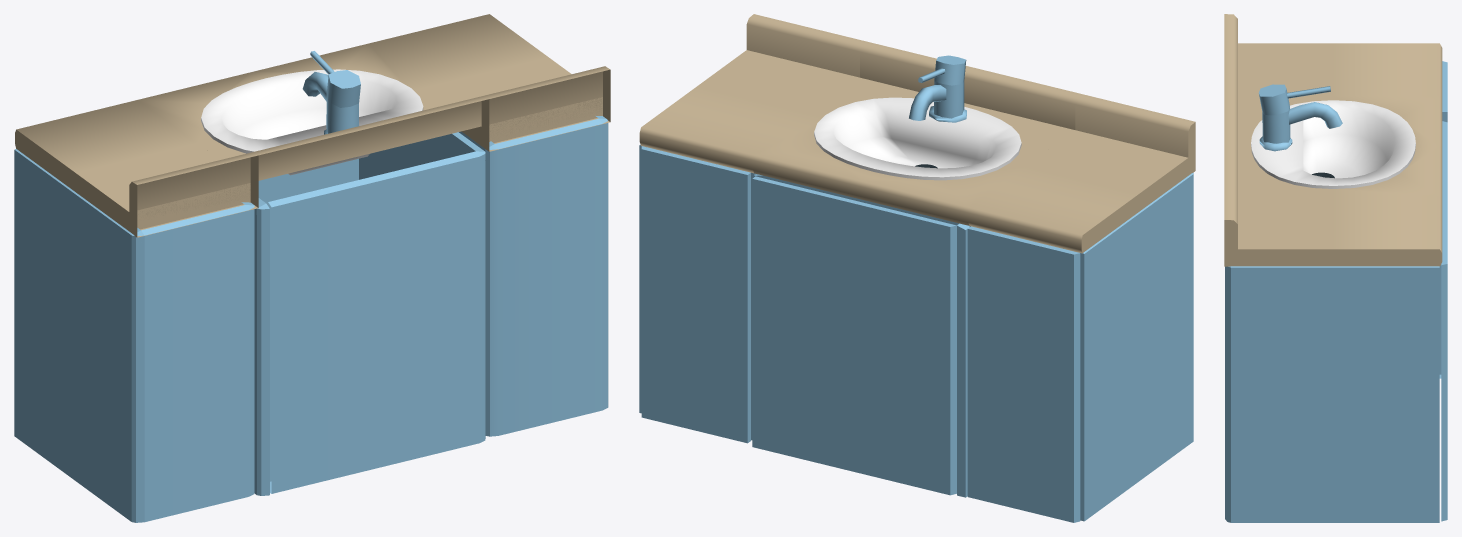
Rendered from Prop_wc_sink1.FBX.
The picture shows the model from 3 angles, left to right: view 1: azimuth 30°, elevation 25°; view 2: azimuth 150°, elevation 25°; view 3: azimuth 270°, elevation 25°; orthographic projection. The views are drawn at different scales.
Visible parts, largest first — view 1: WCSink_01, WCSink_005, WCSink_009, WCSink_04, WCSink_007, WCSink_010, WCSink_02, WCSink_00; view 2: WCSink_00, WCSink_04, WCSink_006, WCSink_005, WCSink_008, WCSink_007, WCSink_010, WCSink_01, WCSink_02, WCSink_009; view 3: WCSink_009, WCSink_04, WCSink_010, WCSink_007, WCSink_02, WCSink_008, WCSink_00, WCSink_006, WCSink_01.
Boxes of the visible parts, x1,y1,x2,y2 form: WCSink_01: (254, 132, 485, 495); WCSink_005: (14, 149, 254, 522); WCSink_009: (443, 116, 608, 436); WCSink_04: (138, 43, 489, 207); WCSink_007: (15, 100, 257, 237); WCSink_010: (368, 14, 610, 151); WCSink_02: (302, 51, 360, 134); WCSink_00: (258, 158, 358, 210); WCSink_00: (752, 176, 956, 495); WCSink_04: (753, 41, 1081, 225); WCSink_006: (967, 226, 1080, 522); WCSink_005: (969, 172, 1193, 521); WCSink_008: (641, 146, 750, 443); WCSink_007: (968, 94, 1195, 253); WCSink_010: (639, 14, 866, 173); WCSink_01: (754, 174, 969, 497); WCSink_02: (909, 55, 966, 122); WCSink_009: (639, 145, 756, 440); WCSink_009: (1225, 266, 1439, 522); WCSink_04: (1224, 66, 1442, 200); WCSink_010: (1224, 167, 1442, 266); WCSink_007: (1224, 14, 1442, 99); WCSink_02: (1258, 84, 1342, 151); WCSink_008: (1441, 214, 1447, 521); WCSink_00: (1442, 121, 1447, 214); WCSink_006: (1442, 61, 1447, 122); WCSink_01: (1439, 264, 1441, 378).
Size of the model in its own units: 58.87 by 26.8 by 44.47.
